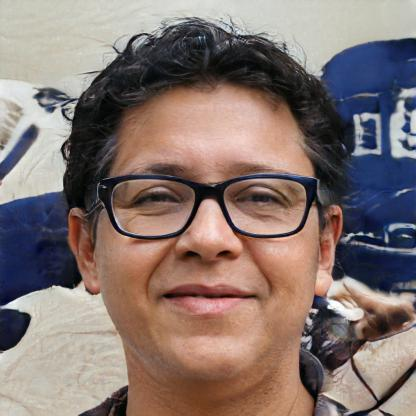glasses: (95, 166, 320, 242)
